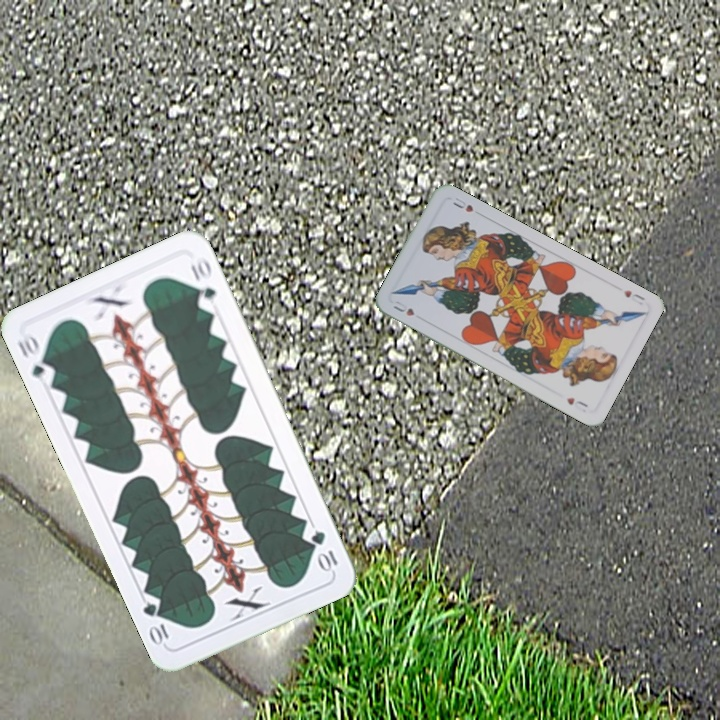G10: (14, 331, 58, 385), (307, 526, 341, 574)
HU: (389, 297, 417, 319), (619, 286, 647, 308)
